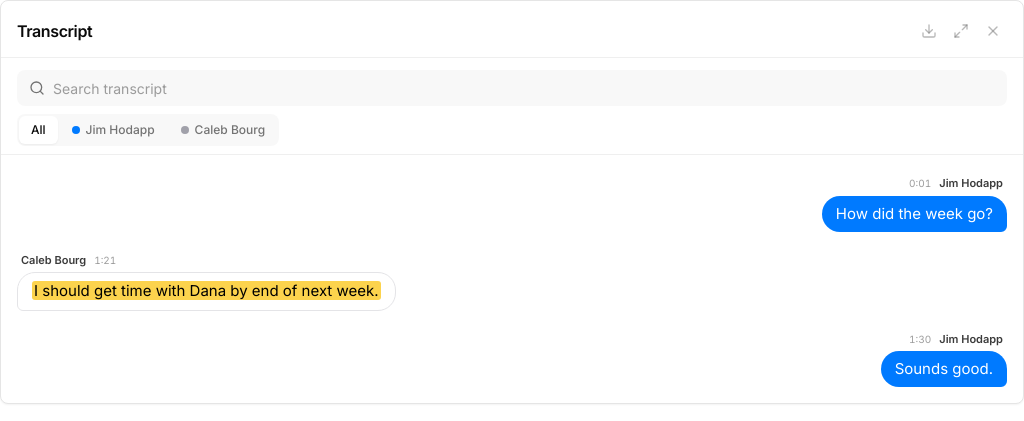
Scenario: search clears the jump mark › drops the quote mark once a search is typed
Expected: the text "I should get time with Dana by end of next week." is shown, left=32, top=281, right=380, bottom=300
// The term is in another segment, so the quote has no search hit of its own.
Type "Sounds" into the field labelled "Search transcript" at (512, 88), box left=17, top=70, right=1007, bottom=106
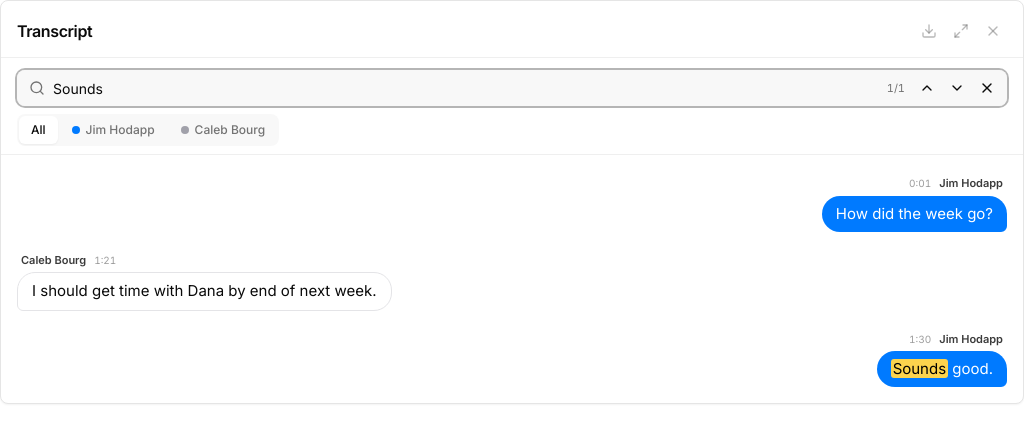
Expected: the text with test id "transcript-jump-mark" is gone
